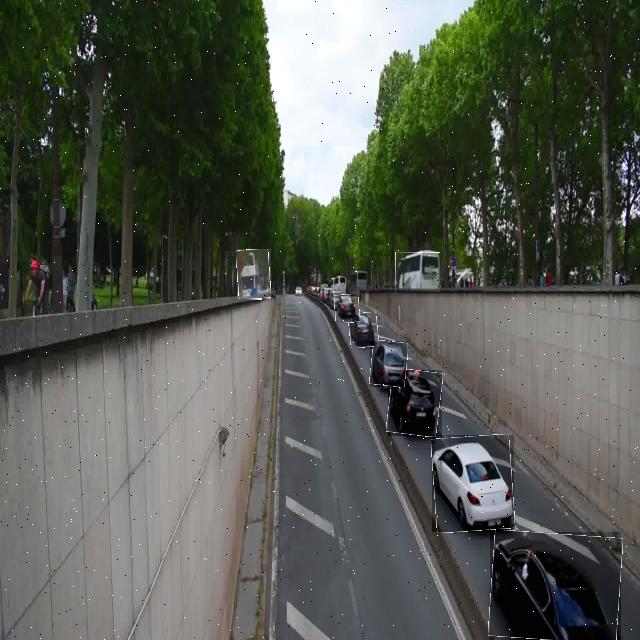Bus: (395, 252, 440, 293), (237, 250, 271, 300)
Car: (490, 532, 621, 640), (432, 435, 514, 532), (388, 370, 442, 436), (370, 341, 407, 387), (349, 312, 378, 348), (334, 295, 360, 323)
